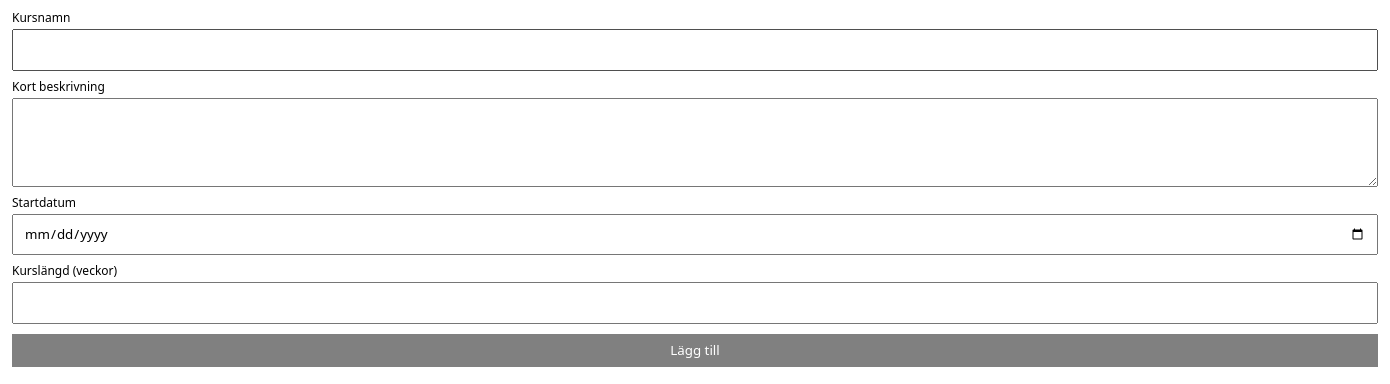
Scenario: Popup Modal tests › Form inputs › submit button should be disabled if all fields are filled in
Type "Projektledning" into the field labelled "Kursnamn" at (695, 50), box [12,29,1378,71]
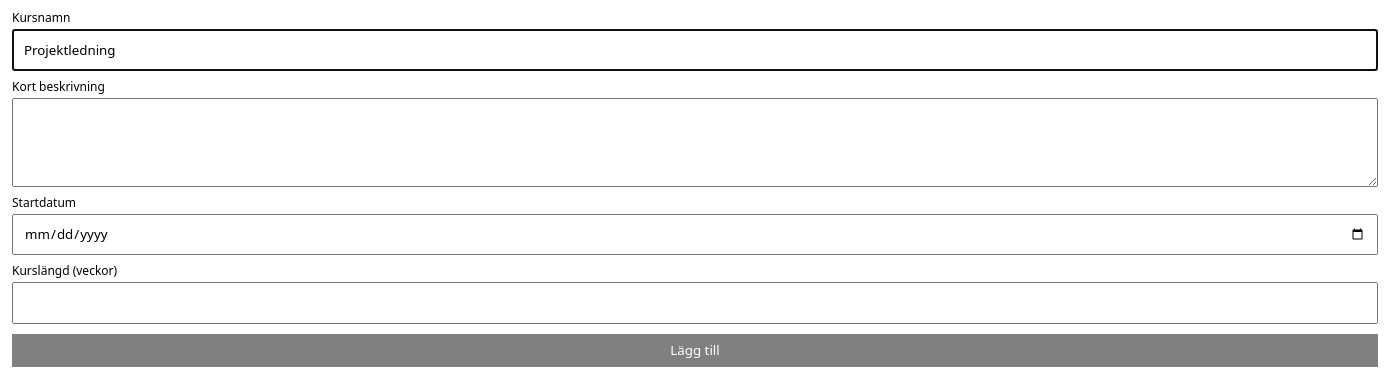
Type "Lorem ipsum dolor sit amet" into the text box labelled "Kort beskrivning" at (695, 142), box [12,98,1378,187]
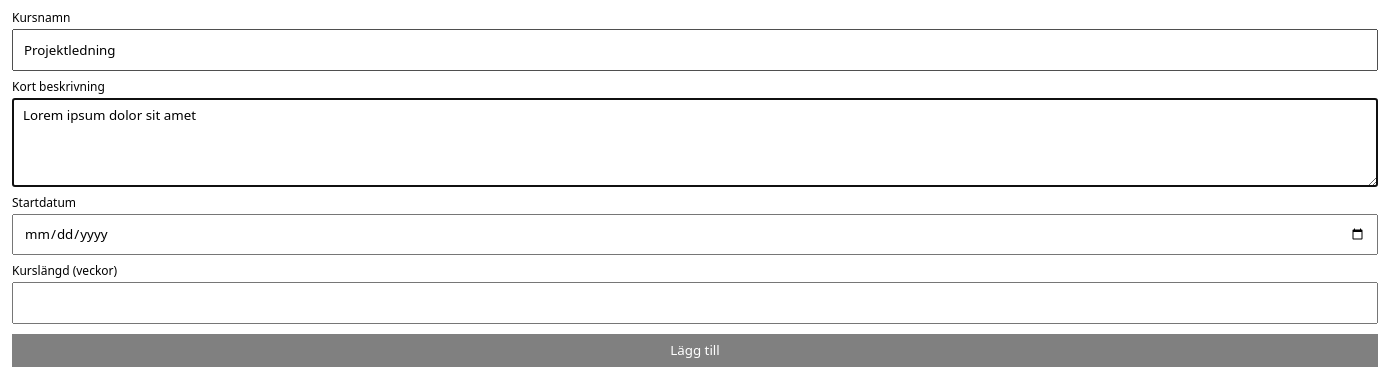
Type "3 månader" into the field labelled "Kurslängd (veckor)" at (695, 303), box [12,282,1378,324]
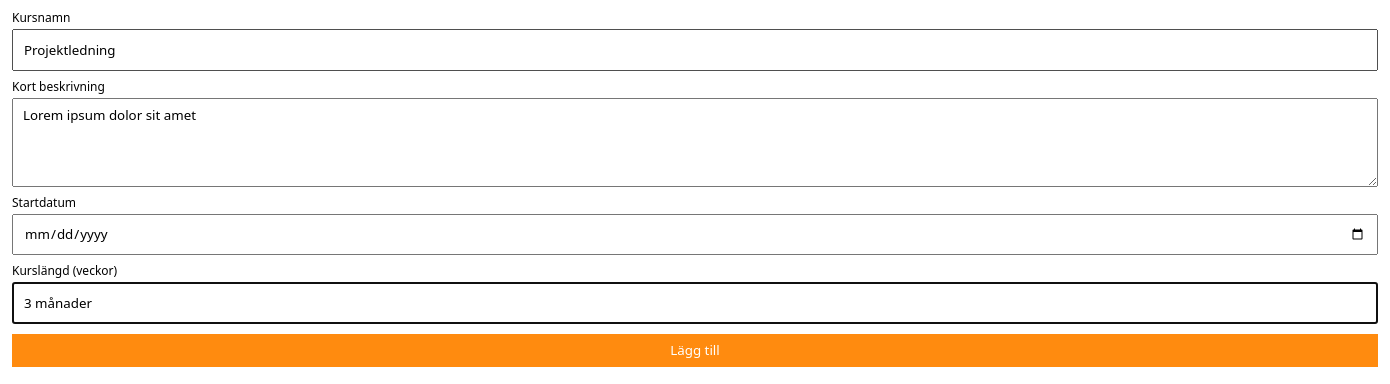
Check: the button "Lägg till" is enabled, box [12,334,1378,367]
